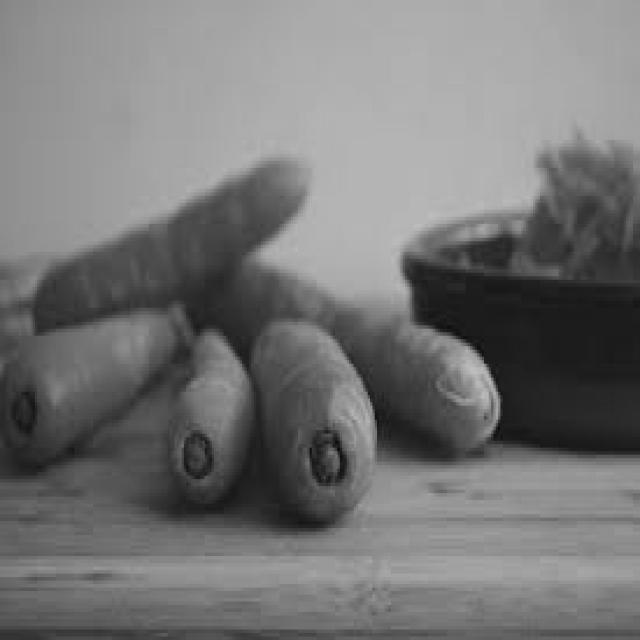Fresh_Carrot: (14, 127, 499, 498)
